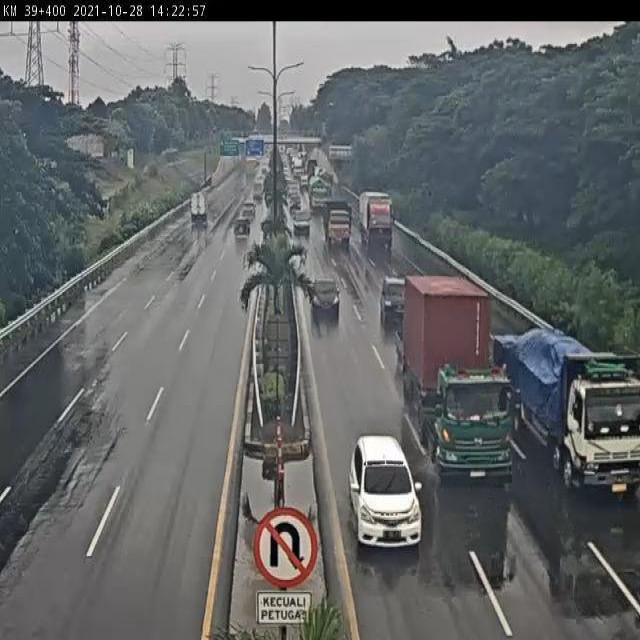big truck: (396, 278, 515, 498), (359, 192, 394, 249)
car: (349, 434, 424, 554), (380, 276, 405, 332), (312, 279, 342, 320), (293, 209, 312, 240), (236, 213, 251, 236)
small truck: (324, 201, 353, 252), (191, 192, 207, 223)
